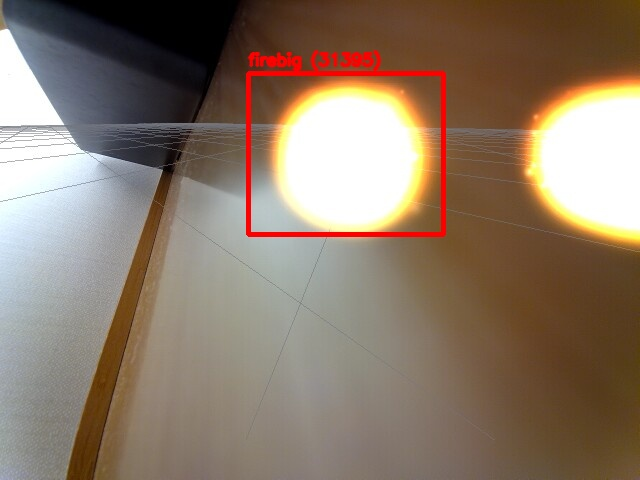firebig: (248, 73, 443, 234)
